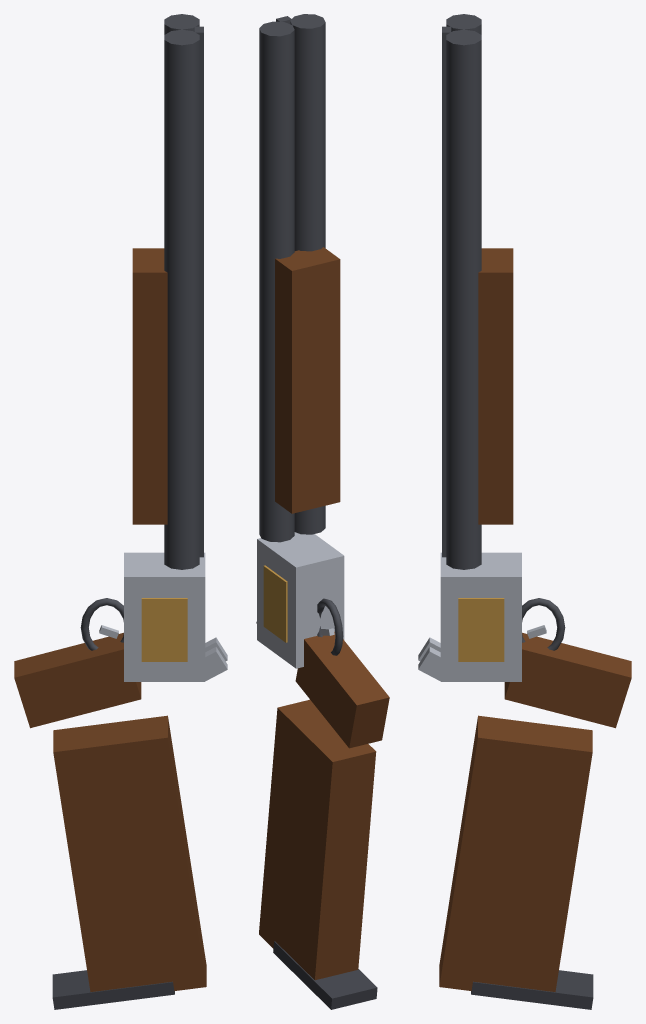
Rendered from double_shotgun.glb.
The picture shows the model from 3 angles, left to right: view 1: azimuth 90°, elevation 25°; view 2: azimuth 210°, elevation 25°; view 3: azimuth 270°, elevation 25°; orthographic projection. The views are drawn at different scales.
Visible parts, largest first — view 1: DoubleShotgun_Wood, DoubleShotgun_Gunmetal, DoubleShotgun_Steel, DoubleShotgun_Brass, DoubleShotgun_Darksteel; view 2: DoubleShotgun_Wood, DoubleShotgun_Gunmetal, DoubleShotgun_Steel, DoubleShotgun_Darksteel, DoubleShotgun_Brass; view 3: DoubleShotgun_Wood, DoubleShotgun_Gunmetal, DoubleShotgun_Steel, DoubleShotgun_Brass, DoubleShotgun_Darksteel.
Boxes of the visible parts, bbox=[...] form: DoubleShotgun_Wood: bbox=[14, 248, 206, 991]; DoubleShotgun_Gunmetal: bbox=[80, 14, 203, 650]; DoubleShotgun_Steel: bbox=[99, 552, 227, 681]; DoubleShotgun_Brass: bbox=[141, 598, 187, 661]; DoubleShotgun_Darksteel: bbox=[52, 970, 174, 1009]; DoubleShotgun_Wood: bbox=[259, 247, 389, 980]; DoubleShotgun_Gunmetal: bbox=[259, 14, 343, 655]; DoubleShotgun_Steel: bbox=[256, 532, 344, 668]; DoubleShotgun_Darksteel: bbox=[273, 941, 377, 1009]; DoubleShotgun_Brass: bbox=[263, 565, 287, 642]; DoubleShotgun_Wood: bbox=[439, 248, 631, 991]; DoubleShotgun_Gunmetal: bbox=[442, 14, 565, 650]; DoubleShotgun_Steel: bbox=[418, 552, 546, 681]; DoubleShotgun_Brass: bbox=[458, 598, 504, 661]; DoubleShotgun_Darksteel: bbox=[471, 970, 593, 1009].
Size of the model in its own units: 0.064 by 0.9232 by 0.1845.
